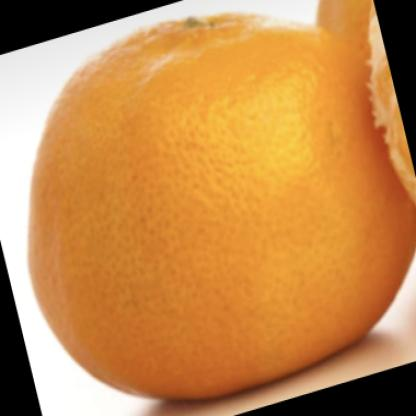fresh: (27, 21, 416, 402)
